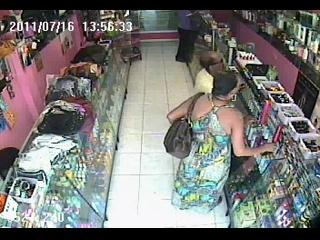Normal: (166, 72, 280, 227), (162, 92, 202, 160), (175, 11, 201, 66), (194, 51, 226, 94)
